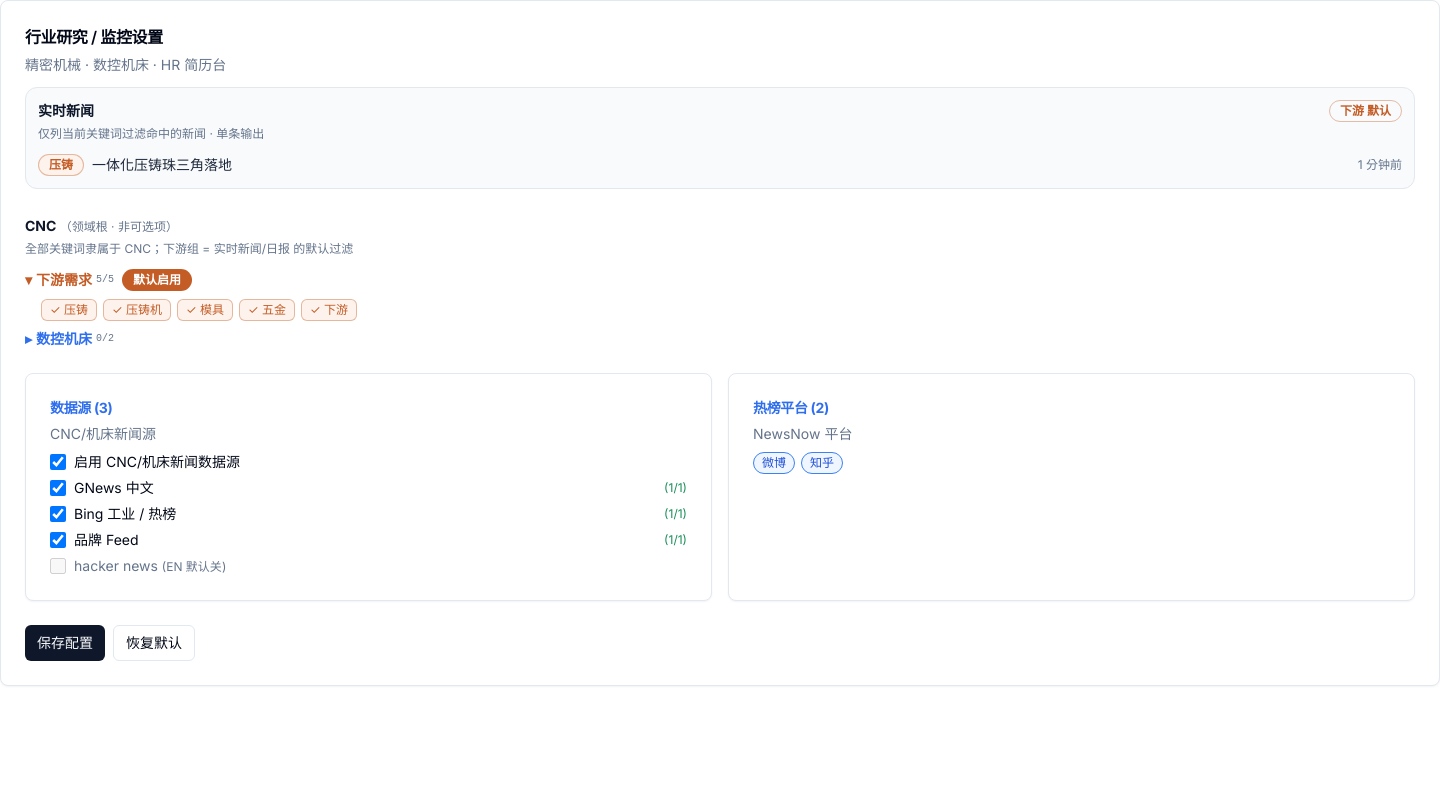
Test: ResearchSettingsPanel › unchecking a downstream keyword removes that item from realtime
Click the button with test id "research-tree-kw-chip" showing "✓ 压铸". click: click(69, 310)
box: [41, 299, 97, 321]
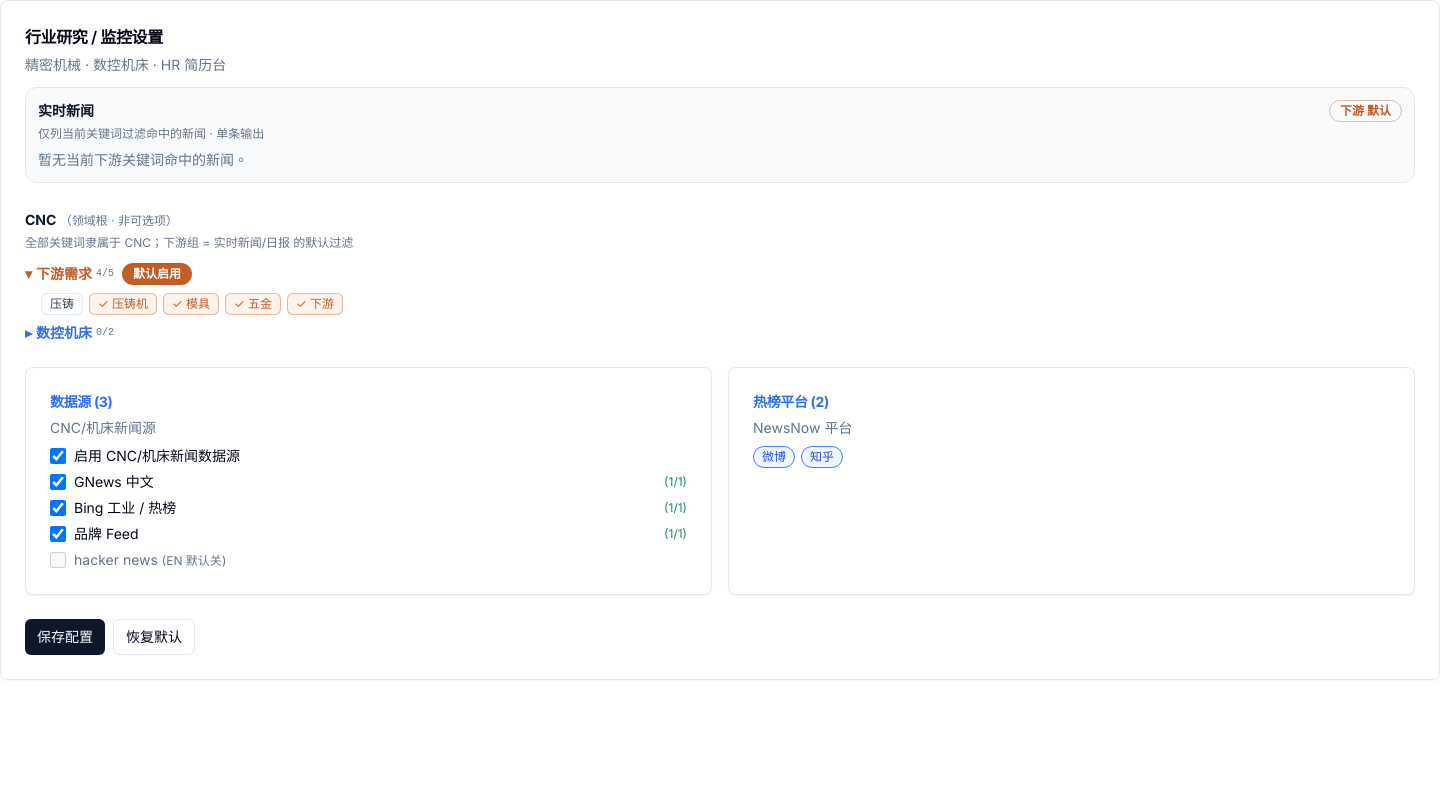
Expected: the text "一体化压铸珠三角落地" is gone
Expected: the text "暂无当前下游关键词命中的新闻。" is shown, [38, 151, 248, 168]
